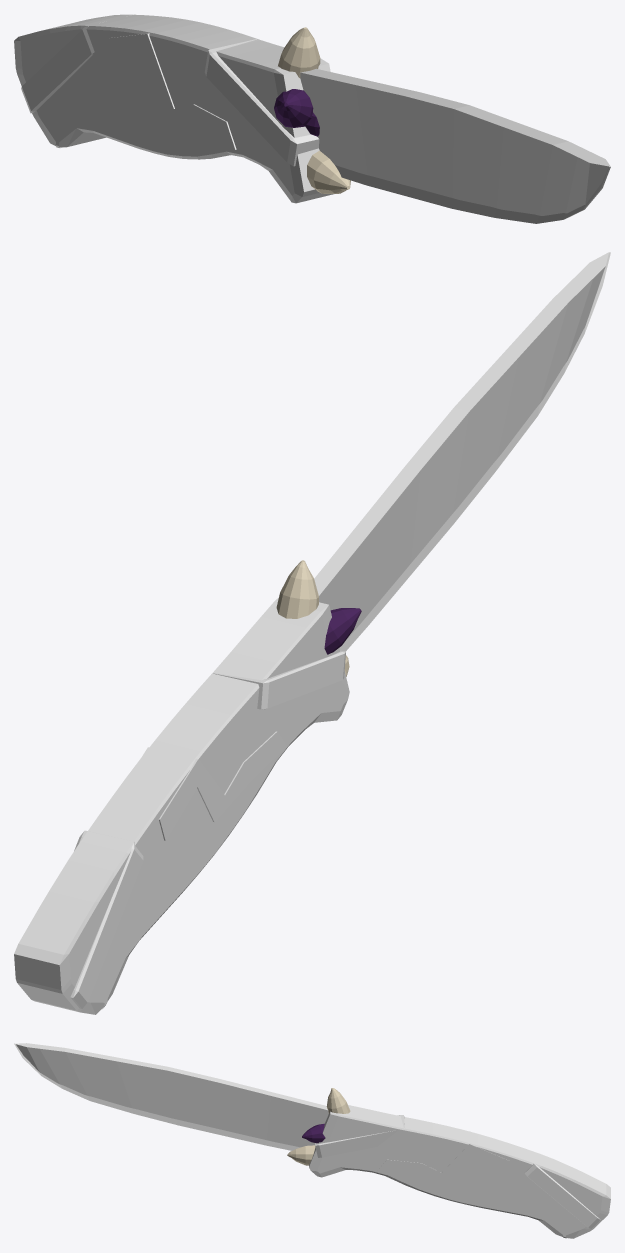
3 views of the same model, one above another, from view 1: azimuth 30°, elevation 25°; view 2: azimuth 150°, elevation 25°; view 3: azimuth 270°, elevation 25° (orthographic). The views are drawn at different scales.
Parts seen in each view (by area): view 1: Blade, Grip, Detail, Detail.001, Detail.002, Detail.006, Detail.003, Detail.005; view 2: Grip, Blade, Detail.001, Detail.002, Detail, Detail.006, Detail.005; view 3: Grip, Blade, Detail.001, Detail.002, Detail, Detail.006, Detail.003, Detail.004.
Part boxes in pixels (<box>): Blade: <box>300,68,610,223</box>; Grip: <box>14,14,333,203</box>; Detail: <box>204,39,319,166</box>; Detail.001: <box>109,33,236,149</box>; Detail.002: <box>21,14,136,113</box>; Detail.006: <box>278,27,320,77</box>; Detail.003: <box>307,150,350,193</box>; Detail.005: <box>274,89,313,127</box>; Grip: <box>14,597,349,1014</box>; Blade: <box>314,252,610,651</box>; Detail.001: <box>142,731,286,840</box>; Detail.002: <box>70,830,143,1008</box>; Detail: <box>213,650,345,709</box>; Detail.006: <box>276,560,318,618</box>; Detail.005: <box>324,608,361,654</box>; Grip: <box>309,1105,610,1238</box>; Blade: <box>14,1043,328,1150</box>; Detail.001: <box>377,1131,508,1182</box>; Detail.002: <box>524,1155,600,1228</box>; Detail: <box>315,1115,404,1157</box>; Detail.006: <box>326,1088,350,1113</box>; Detail.003: <box>287,1145,315,1165</box>; Detail.004: <box>302,1123,325,1143</box>.
Size of the model in its own units: 0.518 by 2.69 by 7.69.
